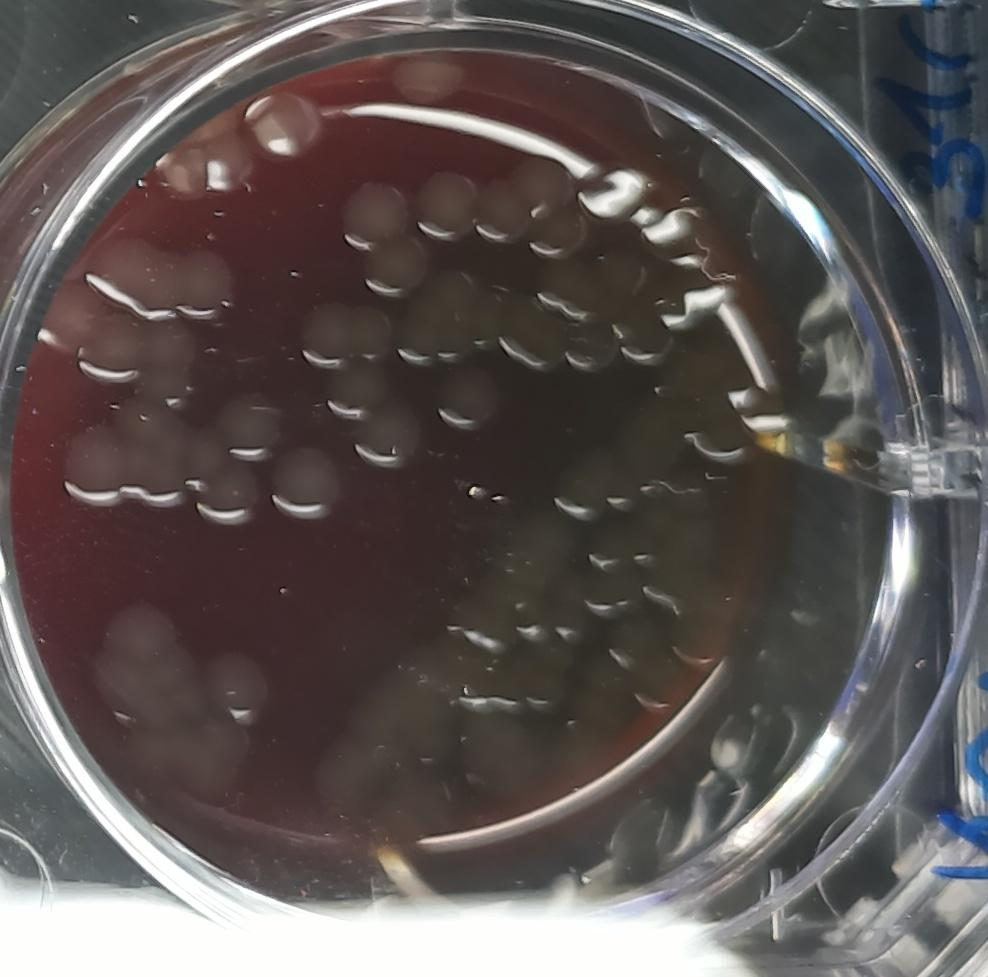vangil: (59, 397, 191, 511), (296, 296, 394, 370), (201, 642, 279, 726), (242, 88, 326, 159), (335, 175, 414, 250), (268, 442, 340, 521), (432, 359, 508, 431), (177, 247, 245, 326), (218, 391, 289, 464), (355, 400, 430, 469), (356, 231, 432, 299), (412, 165, 478, 243), (191, 457, 263, 528), (323, 362, 393, 423), (473, 174, 531, 245)
